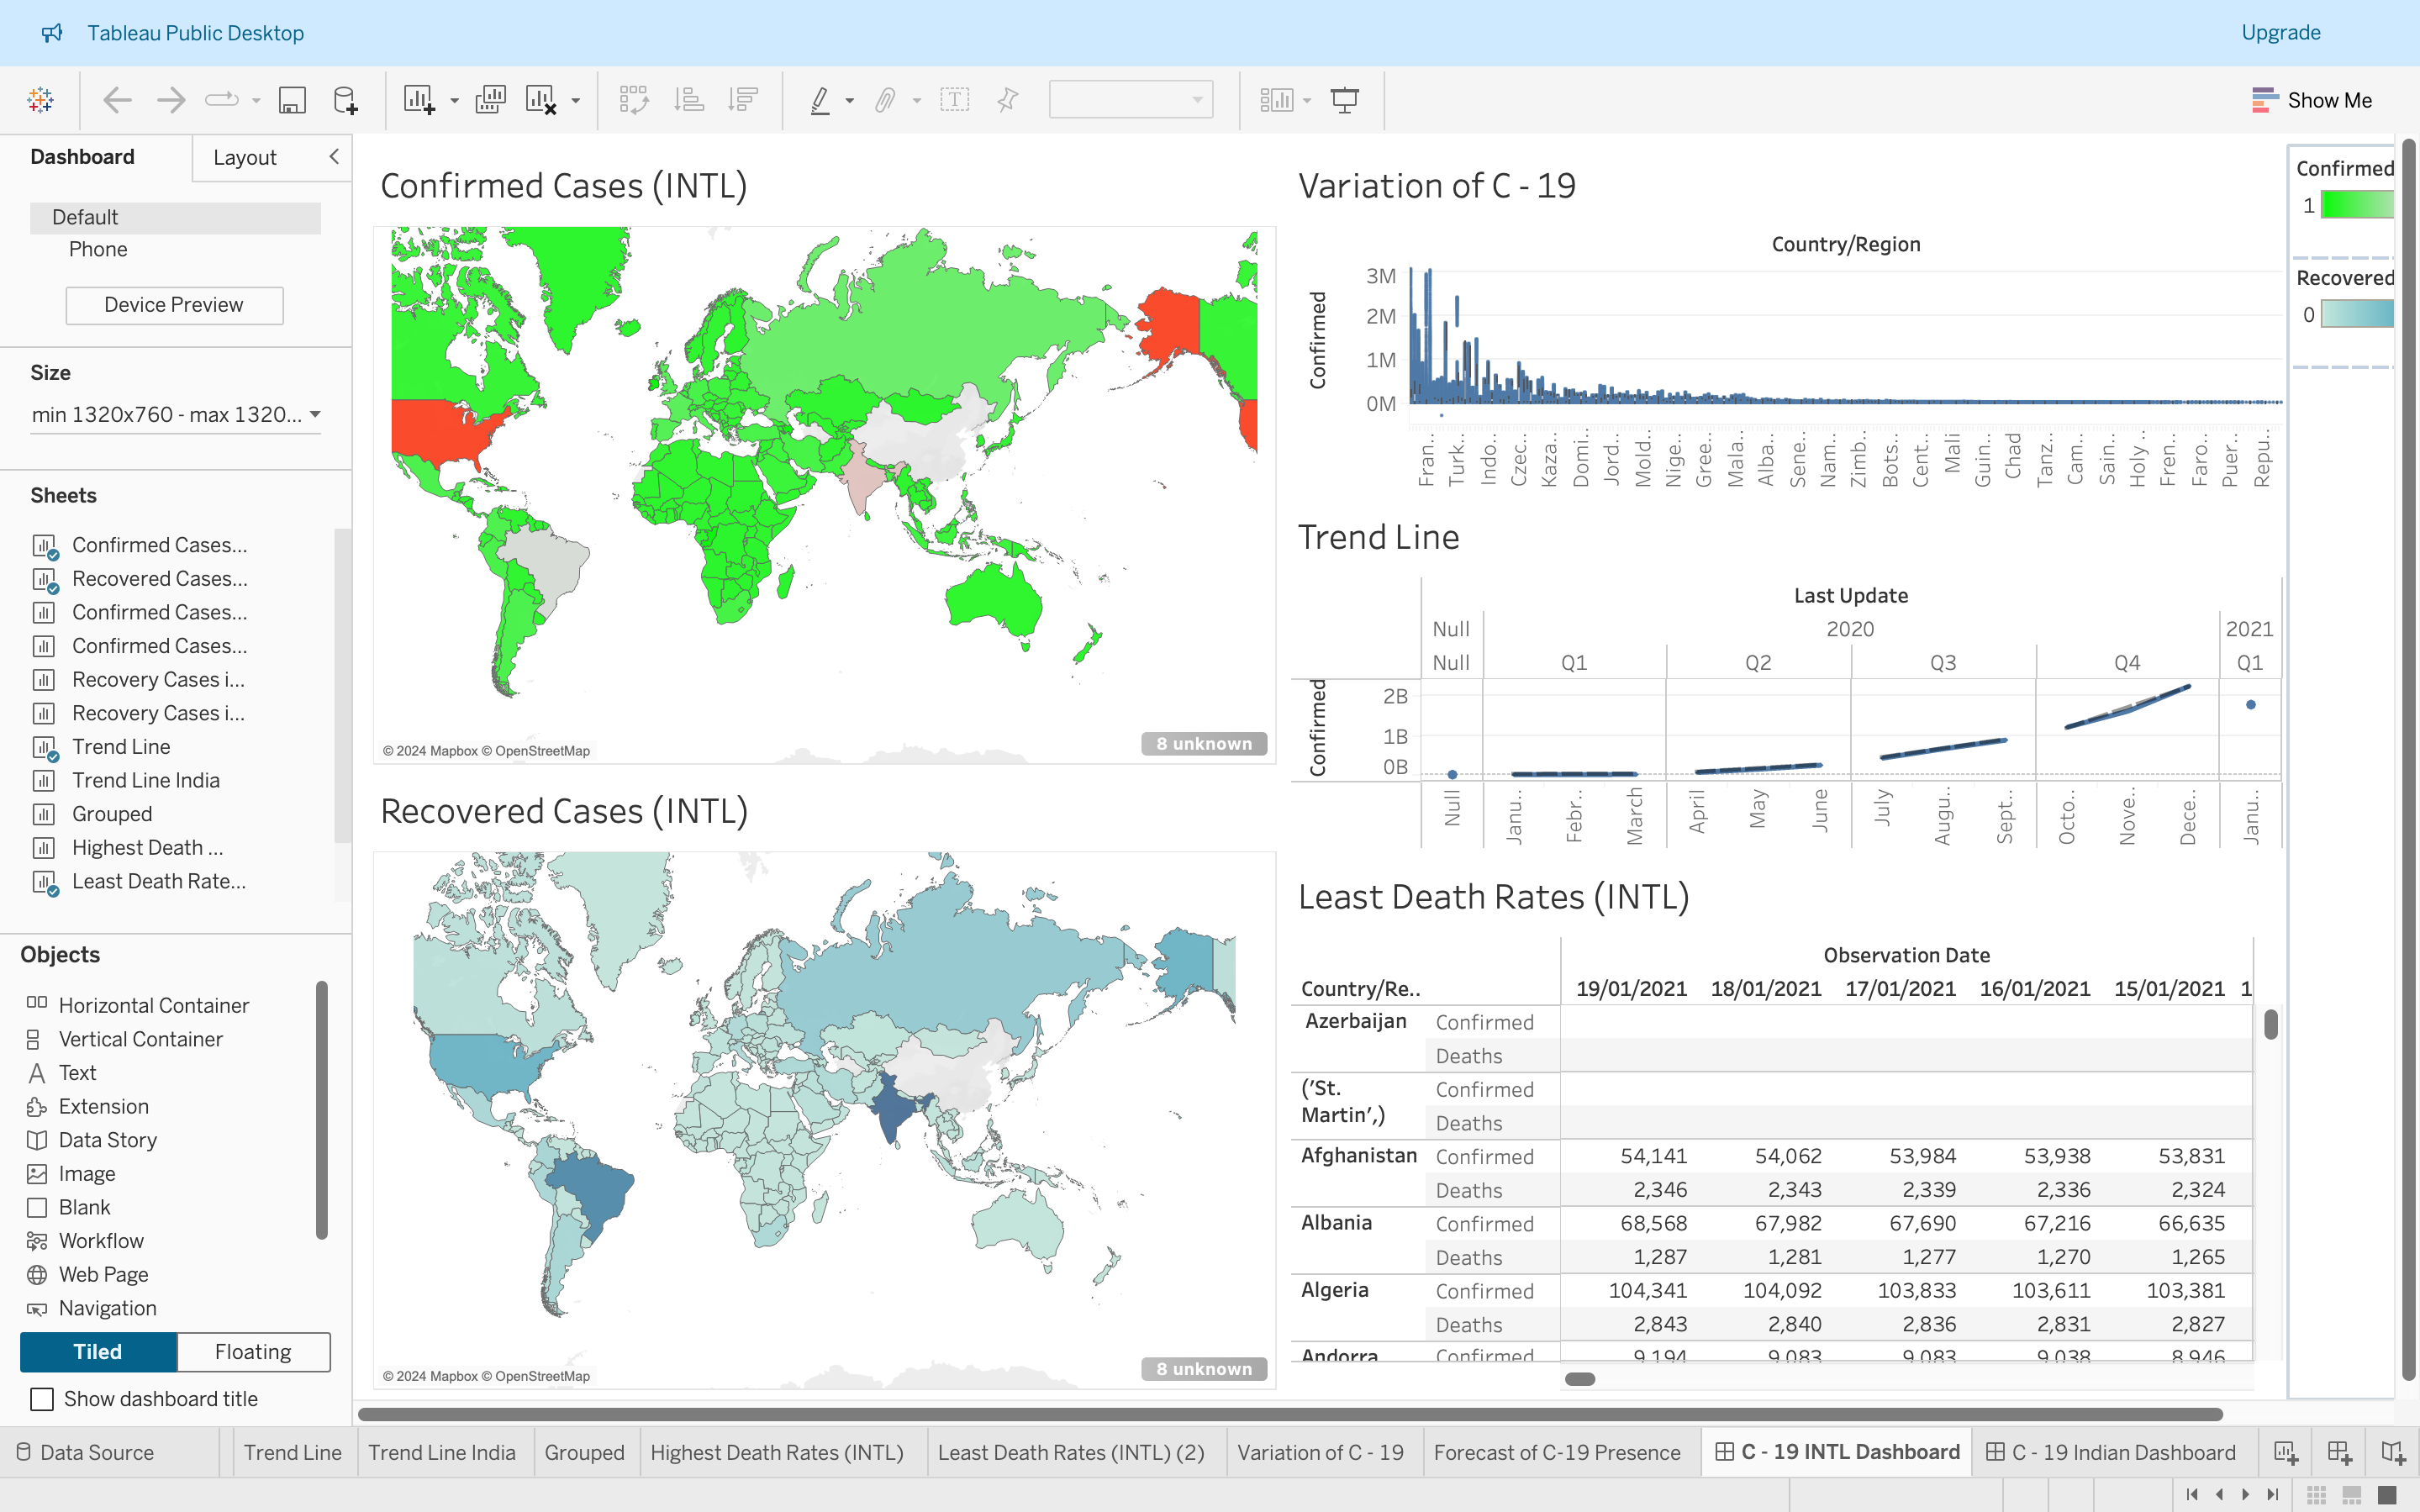

Layout of this report page (visuals, bound fields, positions):
{"tool":"tableau","page":{"name":"C - 19 INTL Dashboard","canvas":[1320,760],"ordinal":0},"visuals":[{"type":"worksheet","title":"Confirmed Cases (INTL)","mark":"Automatic","box":[8,8,546,372]},{"type":"worksheet","title":"Variation of C - 19","mark":"Circle","rows":["Confirmed"],"cols":["Country/Region"],"box":[554,8,598,209]},{"type":"legend","title":"Confirmed Cases (INTL)","param":"[federated.0l8bq7n0iot19q14a57570e5q0ra].[sum:Confirmed:qk]","box":[1152,8,160,65]},{"type":"legend","title":"Recovered Cases (INTL)","param":"[federated.0l8bq7n0iot19q14a57570e5q0ra].[sum:Recovered:qk]","box":[1152,73,160,65]},{"type":"worksheet","title":"Trend Line","mark":"Line","rows":["Confirmed"],"cols":["Last Update","Last Update","Last Update"],"box":[554,217,598,214]},{"type":"worksheet","title":"Recovered Cases (INTL)","mark":"Automatic","box":[8,380,546,372]},{"type":"worksheet","title":"Least Death Rates (INTL) (2)","mark":"Automatic","rows":["Country/Region"],"cols":["ObservationDate"],"box":[554,431,598,321]}]}

Visuals, with their boxes on the page's 1320x760 design canvas (x1, y1, x2, y2). These are canvas units, not pixel positions in the 2420x1512 screenshot, which may show the page scaled, cropped or inside an application window:
"Confirmed Cases (INTL)" worksheet: {"left": 8, "top": 8, "right": 554, "bottom": 380}
"Variation of C - 19" worksheet (Circle marks): {"left": 554, "top": 8, "right": 1152, "bottom": 217}
"Confirmed Cases (INTL)" legend: {"left": 1152, "top": 8, "right": 1312, "bottom": 73}
"Recovered Cases (INTL)" legend: {"left": 1152, "top": 73, "right": 1312, "bottom": 138}
"Trend Line" worksheet (Line marks): {"left": 554, "top": 217, "right": 1152, "bottom": 431}
"Recovered Cases (INTL)" worksheet: {"left": 8, "top": 380, "right": 554, "bottom": 752}
"Least Death Rates (INTL) (2)" worksheet: {"left": 554, "top": 431, "right": 1152, "bottom": 752}
